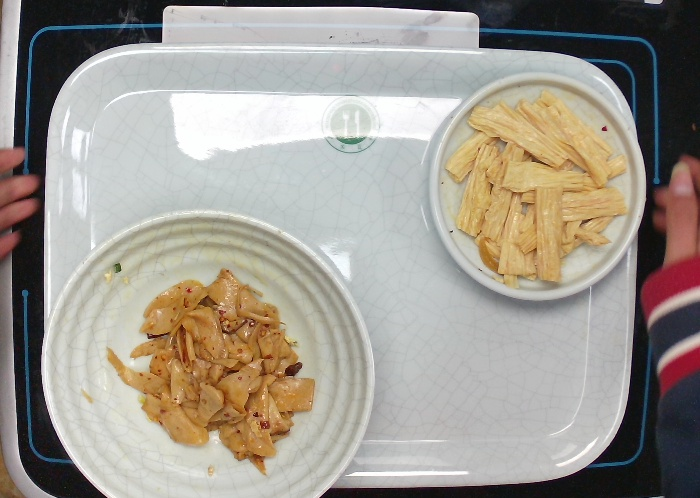JYsf-Da_Tang_Wan: (38, 211, 380, 498)
JYsf-Xiao_Yuan_Pan: (430, 69, 649, 301)
